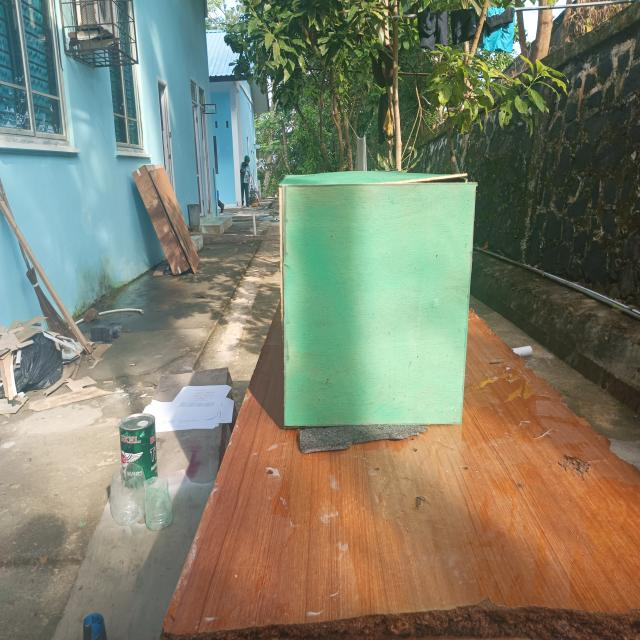green_box: (260, 118, 497, 463)
